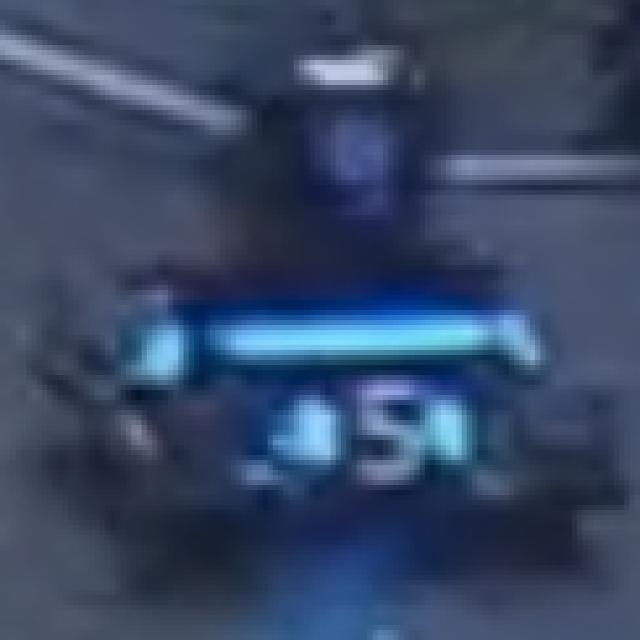B5: (299, 375, 467, 480)
